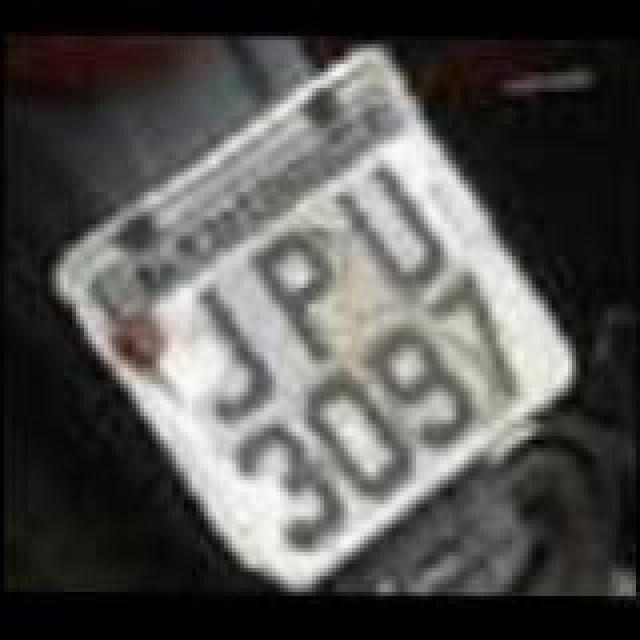3: (230, 418, 354, 554)
7: (422, 270, 526, 402)
9: (362, 330, 478, 454)
J: (174, 284, 278, 428)
O: (292, 362, 412, 498)
P: (246, 224, 350, 364)
U: (334, 166, 450, 298)
